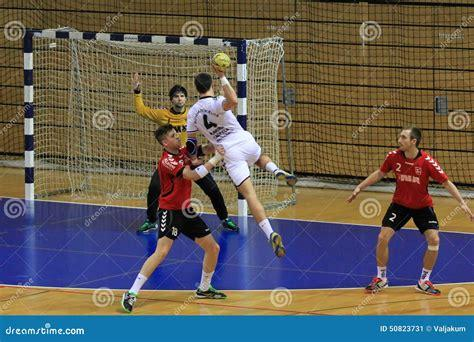ballon_handball: (210, 51, 232, 74)
